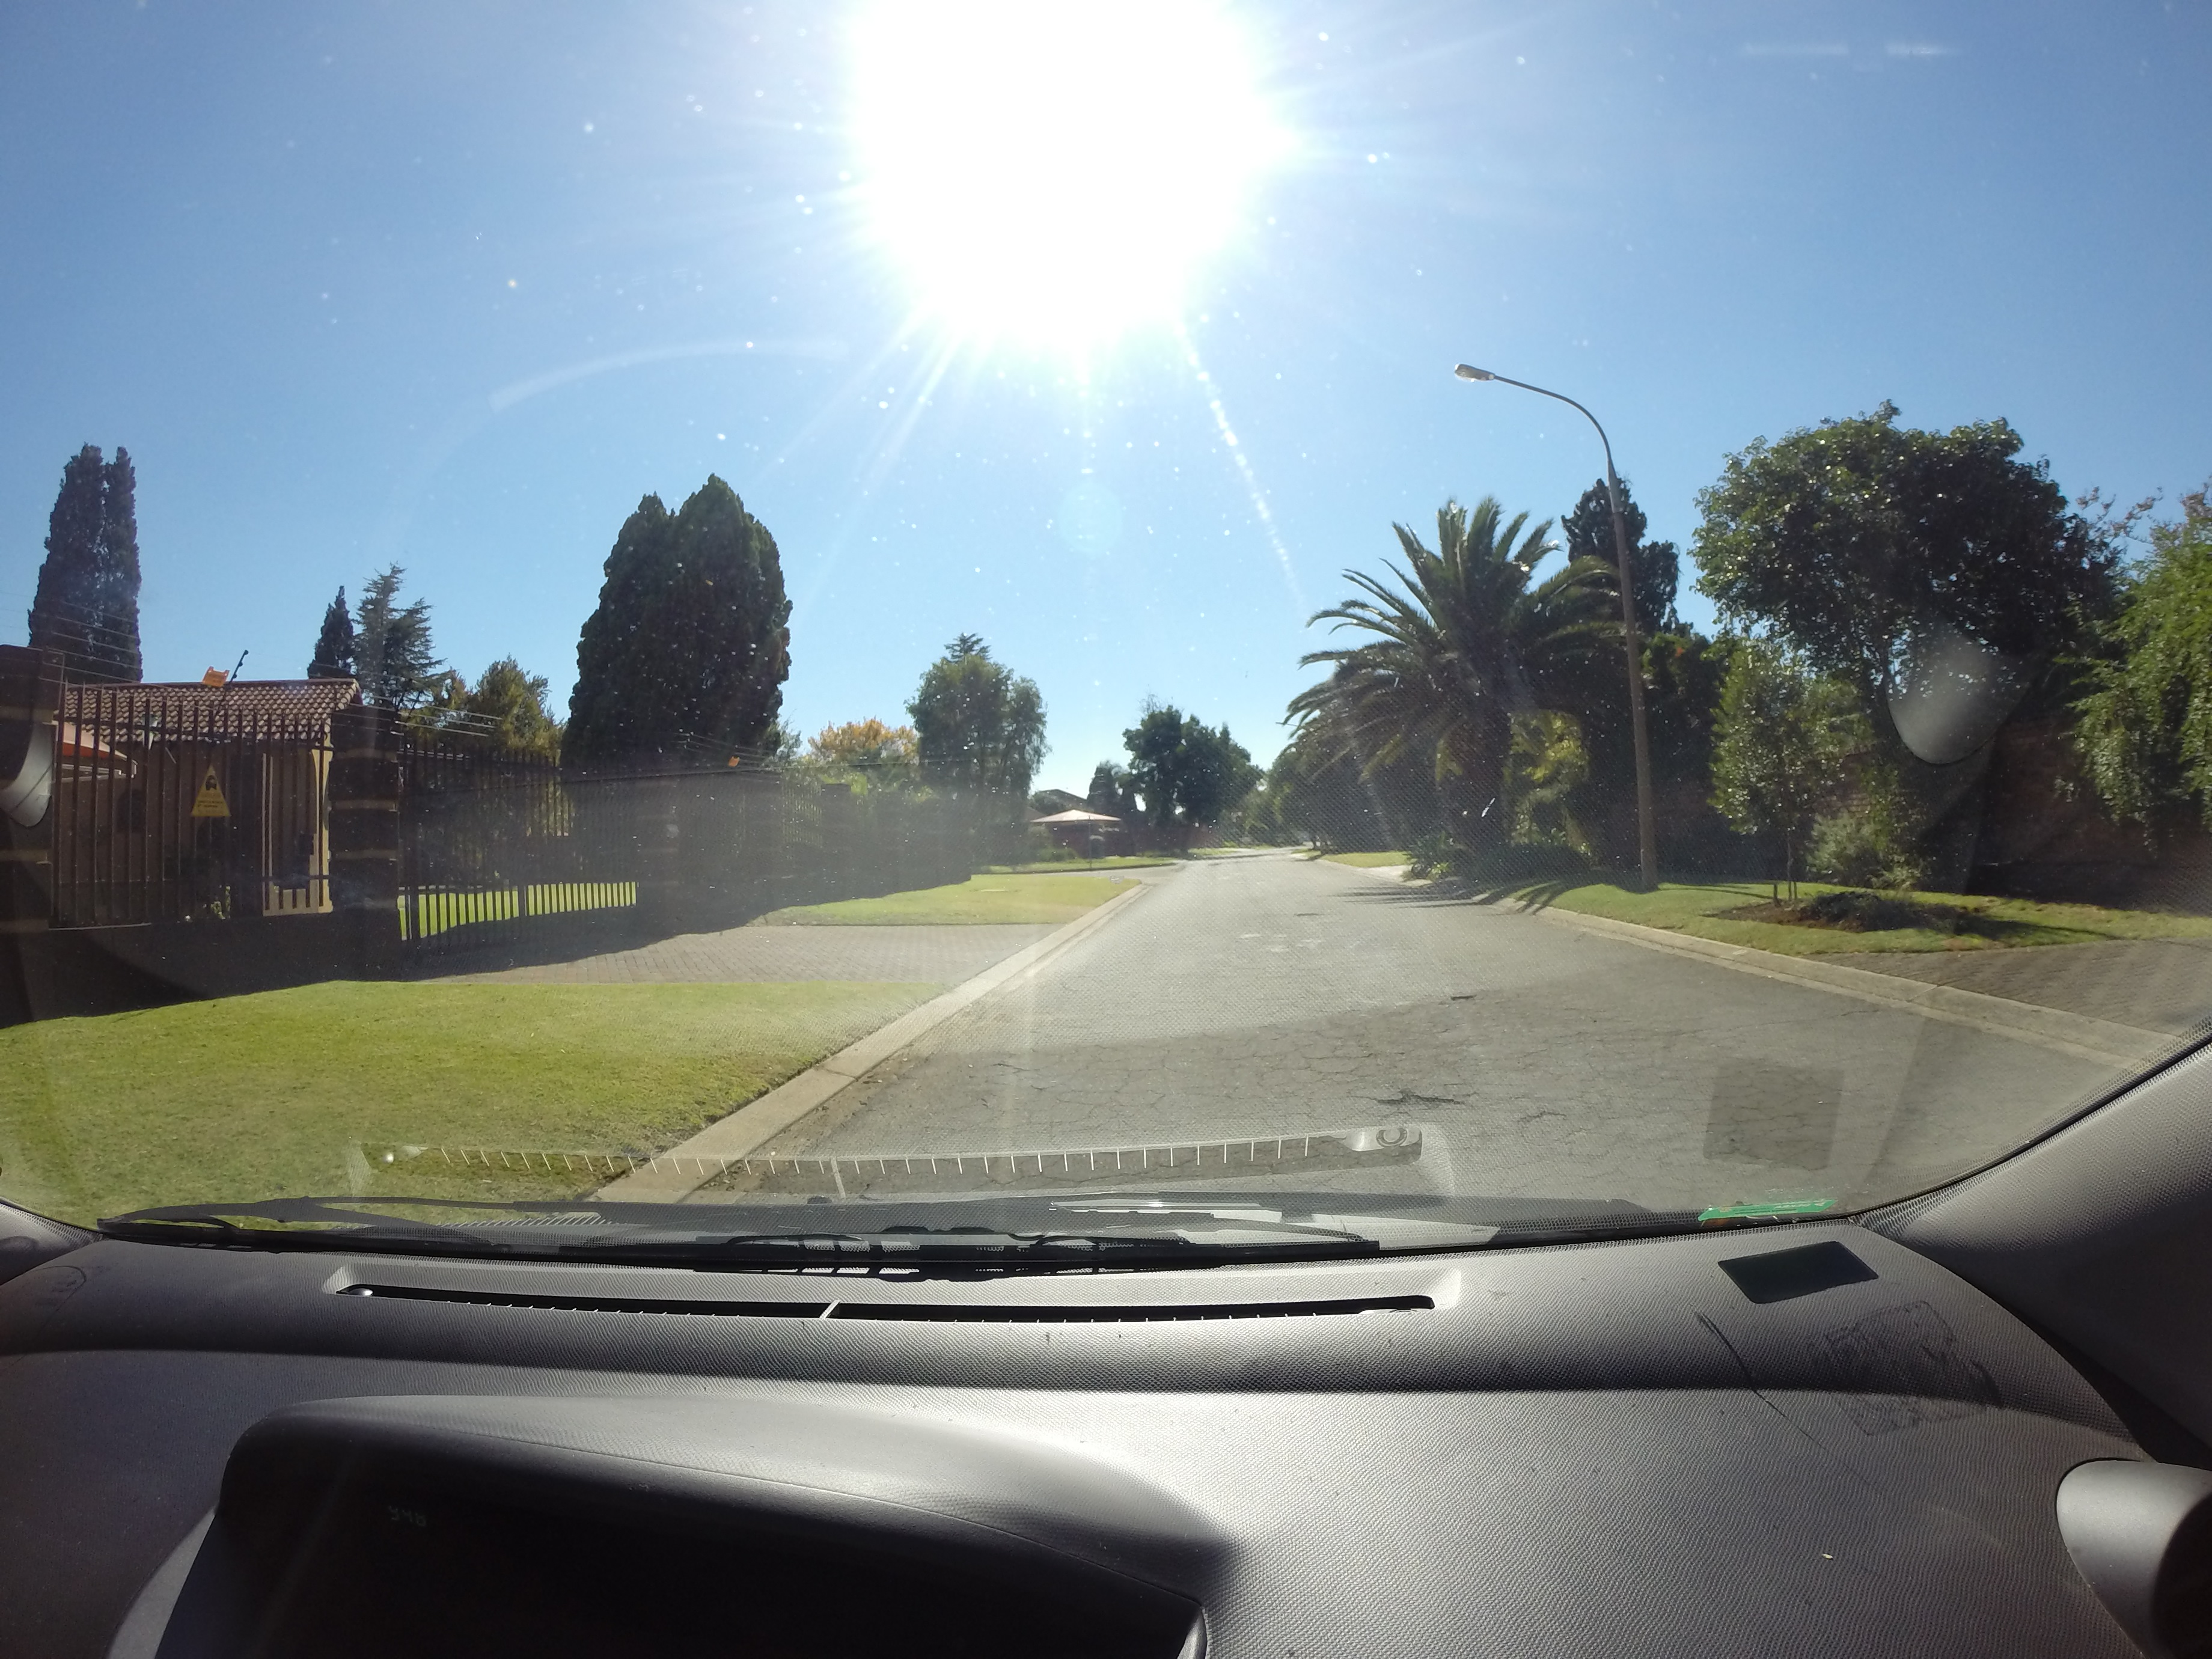pothole: (1334, 1075, 1503, 1133)
